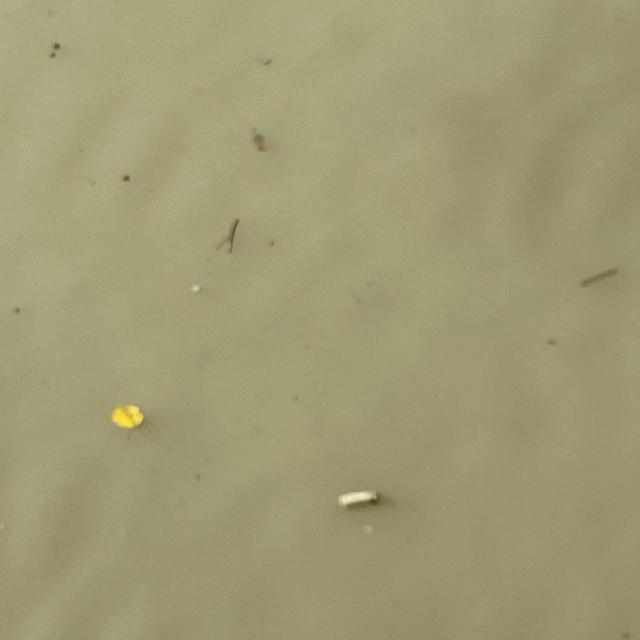Organic Debris: (106, 396, 148, 434), (210, 214, 241, 258), (576, 266, 619, 291), (246, 130, 267, 154), (118, 171, 136, 185), (48, 40, 63, 50), (49, 50, 58, 60), (12, 305, 21, 314)
Paper and Cardboard: (334, 485, 385, 513)
Plastic: (187, 282, 204, 296)
